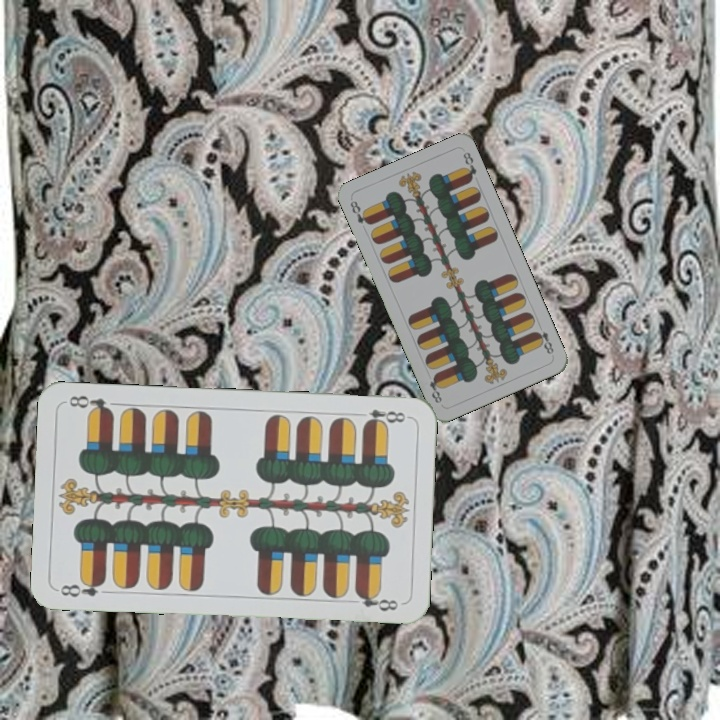E8: (352, 405, 411, 429), (57, 575, 108, 600), (346, 196, 373, 227), (531, 327, 556, 357)
